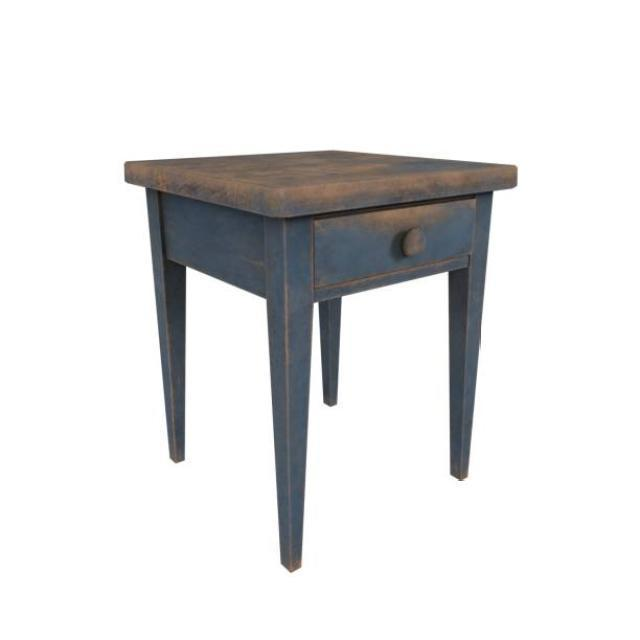table: (122, 147, 518, 572)
